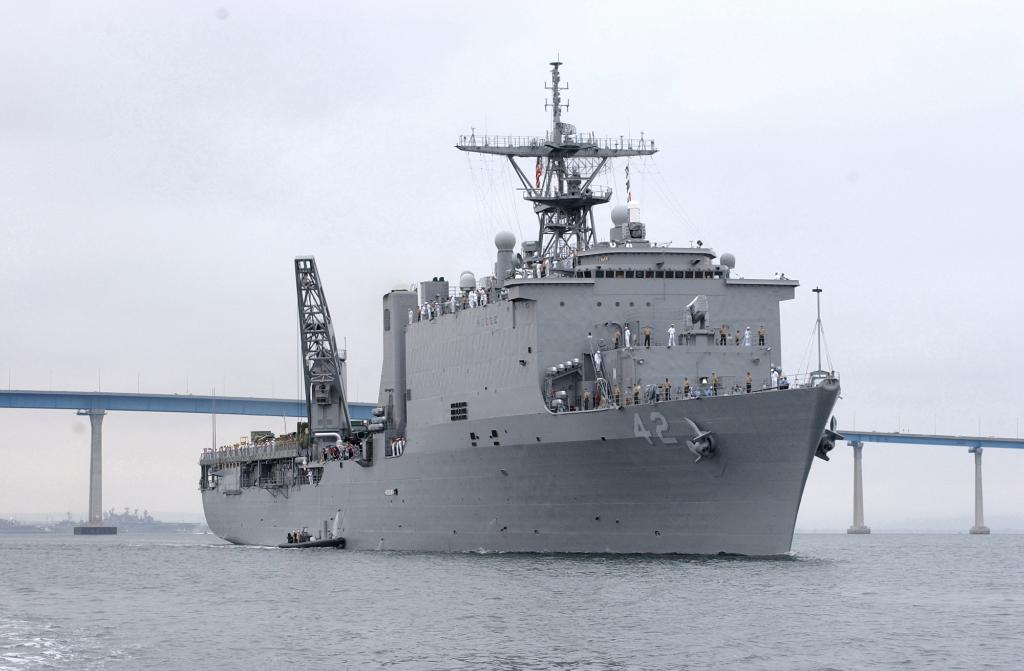Warship: (188, 44, 844, 568)
